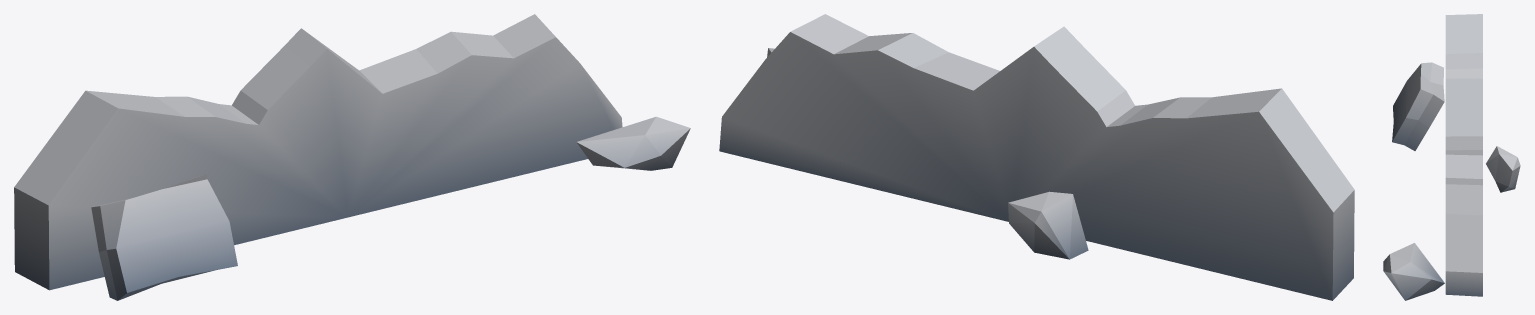
File: Wall Ruin 3.fbx
3 views of the same model, side by side, from view 1: azimuth 30°, elevation 25°; view 2: azimuth 150°, elevation 25°; view 3: azimuth 270°, elevation 25° (orthographic). The views are drawn at different scales.
Visible parts, largest first — view 1: Broken Wall 3; view 2: Broken Wall 3; view 3: Broken Wall 3.
Boxes of the visible parts, <box> form: Broken Wall 3: <box>14,14,690,300</box>; Broken Wall 3: <box>719,14,1354,300</box>; Broken Wall 3: <box>1383,14,1520,300</box>.
Size of the model in its own units: 817 by 223 by 235.
